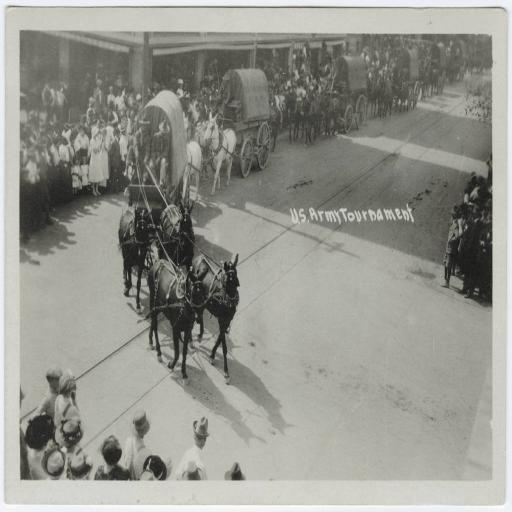horse: (186, 251, 242, 388), (143, 264, 206, 380), (117, 203, 152, 314), (153, 196, 195, 275), (204, 111, 236, 197), (184, 116, 210, 174), (182, 142, 205, 206), (298, 98, 323, 150), (320, 96, 341, 138), (287, 96, 305, 144), (378, 76, 394, 120), (364, 80, 380, 120)
